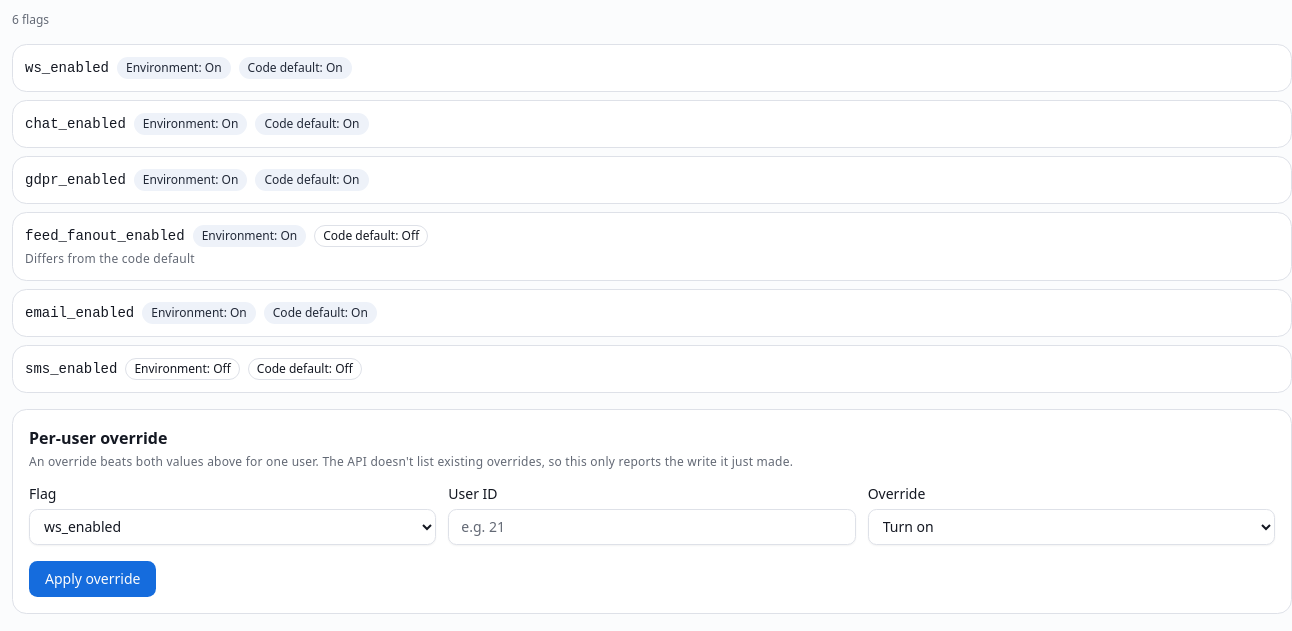
Test case: FlagList › posts the override and reports the echoed action, without refetching the list
Expected: the list is shown, [12, 44, 1291, 393]
Expected: the dropdown labelled "Flag" shows "ws_enabled", [29, 509, 436, 545]
Type "21" into the number field labelled "User ID" at (652,527), box [448, 509, 856, 545]
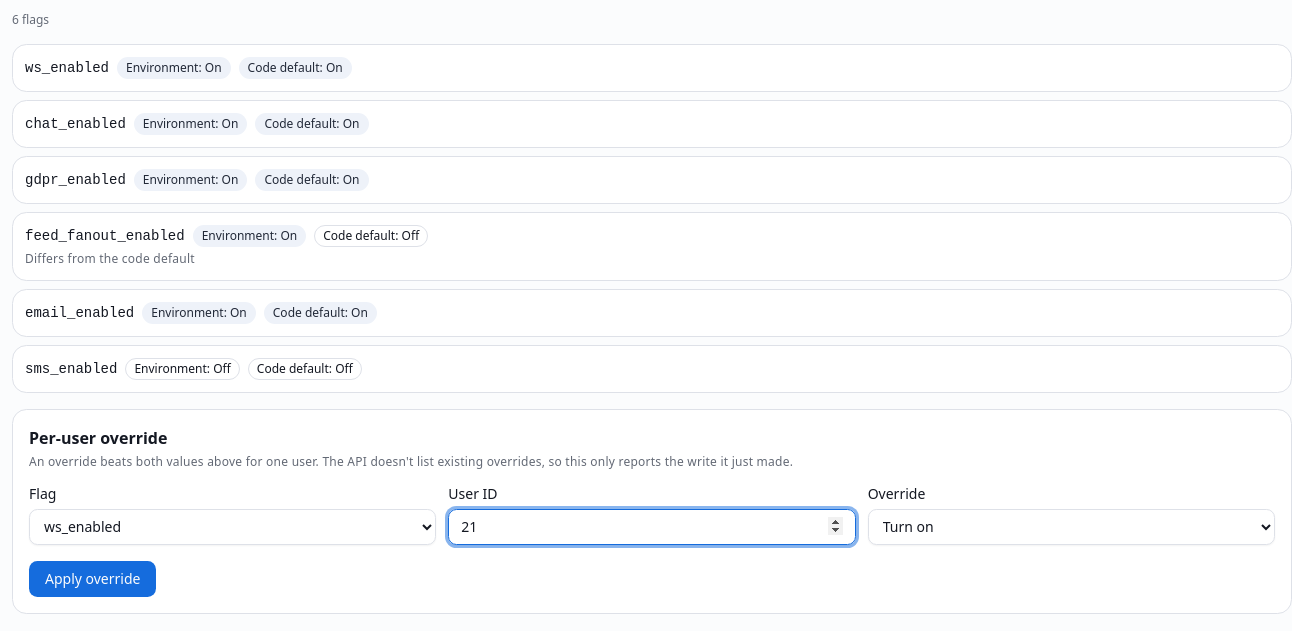
Click the button "Apply override" at (93,579), box [29, 561, 156, 597]
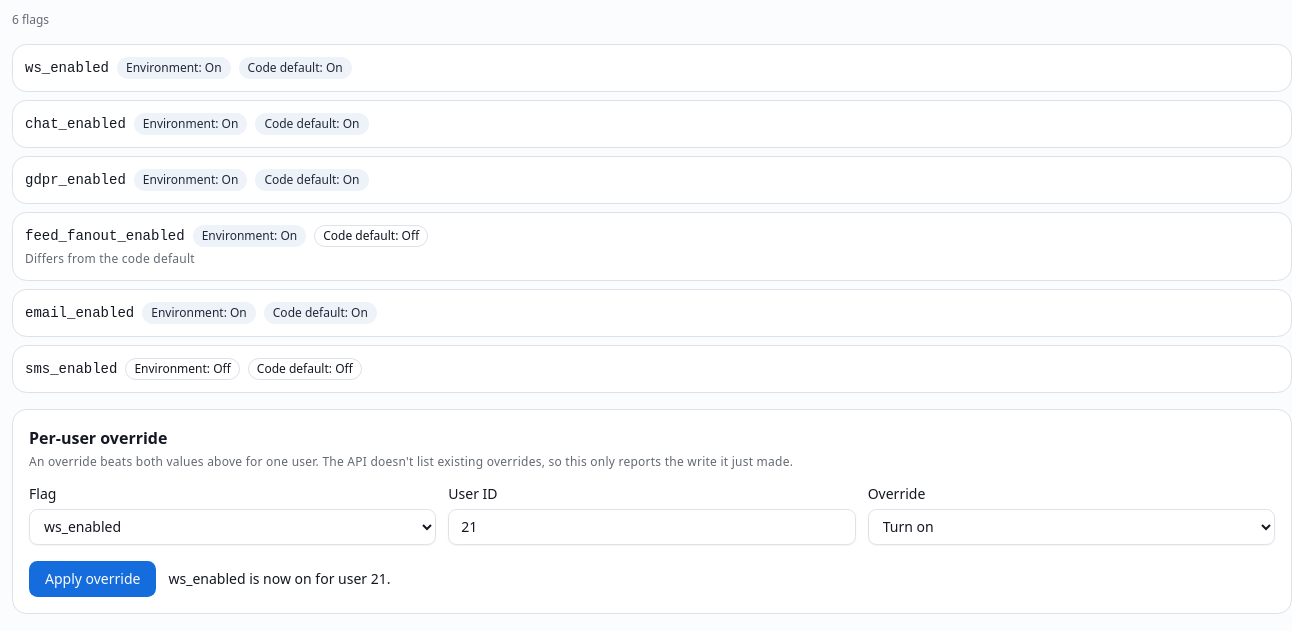
Now the message reads "ws_enabled is now on for user 21.", box [168, 569, 391, 588]
